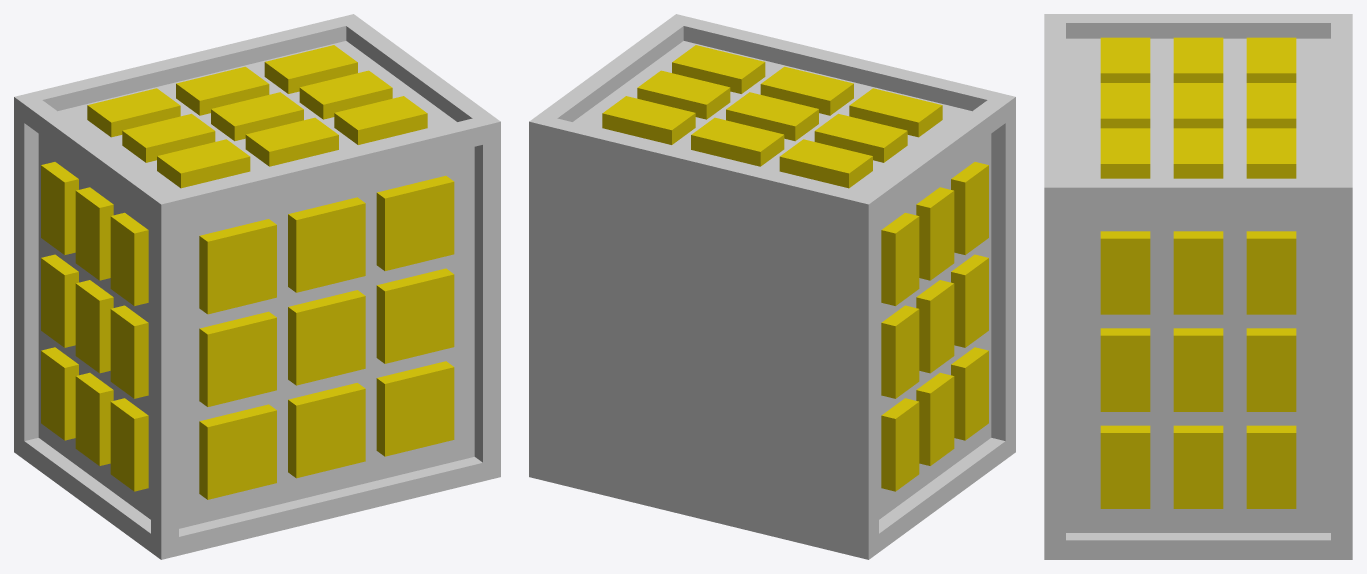
Rendered from PusherBaseLong.fbx.
3 views of the same model, side by side, from view 1: azimuth 30°, elevation 25°; view 2: azimuth 150°, elevation 25°; view 3: azimuth 270°, elevation 25° (orthographic). The views are drawn at different scales.
Parts seen in each view (by area): view 1: PusherBaseLong; view 2: PusherBaseLong; view 3: PusherBaseLong.
Boxes of the visible parts, left/top/right/bottom form: PusherBaseLong: left=14, top=14, right=500, bottom=559; PusherBaseLong: left=529, top=14, right=1015, bottom=559; PusherBaseLong: left=1044, top=14, right=1352, bottom=559.
Bounding box in the file's own units: 200 × 200 × 150.
